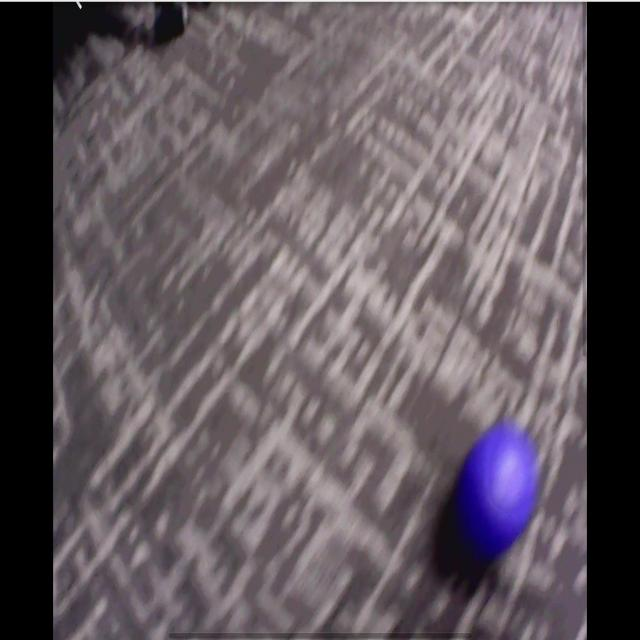ball: (464, 429, 538, 548)
